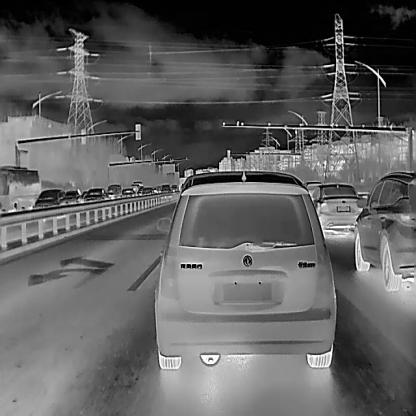bus: (0, 164, 41, 214)
car: (154, 170, 337, 369), (354, 171, 414, 289), (311, 183, 362, 238), (32, 187, 64, 208), (58, 188, 80, 204), (82, 188, 106, 202), (105, 184, 121, 198), (121, 188, 134, 196), (142, 186, 152, 195), (160, 183, 170, 192)
